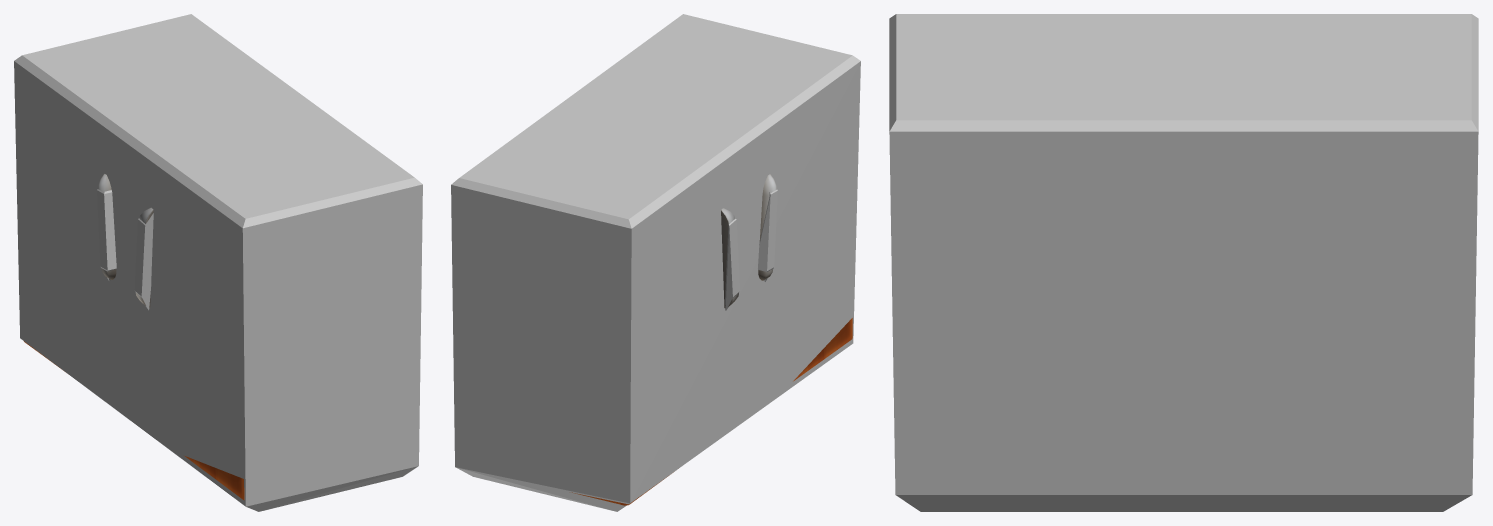
The model's file is SM_KitchenFurniture01_3.fbx.
3 renders of one model, left to right at view 1: azimuth 30°, elevation 25°; view 2: azimuth 150°, elevation 25°; view 3: azimuth 270°, elevation 25°, orthographic. The views are drawn at different scales.
Parts seen in each view (by area): view 1: SM_KitchenFurniture01_3_ConvexHulls, SM_KitchenFurniture01_3; view 2: SM_KitchenFurniture01_3_ConvexHulls, SM_KitchenFurniture01_3; view 3: SM_KitchenFurniture01_3_ConvexHulls.
Part boxes in pixels (<box>): SM_KitchenFurniture01_3_ConvexHulls: <box>14,14,422,511</box>; SM_KitchenFurniture01_3: <box>24,174,244,500</box>; SM_KitchenFurniture01_3_ConvexHulls: <box>451,14,860,511</box>; SM_KitchenFurniture01_3: <box>572,174,852,505</box>; SM_KitchenFurniture01_3_ConvexHulls: <box>889,14,1478,511</box>.
Size of the model in its own units: 63.4 by 134 by 98.72.
Materials: 2 (1 with a texture image).
